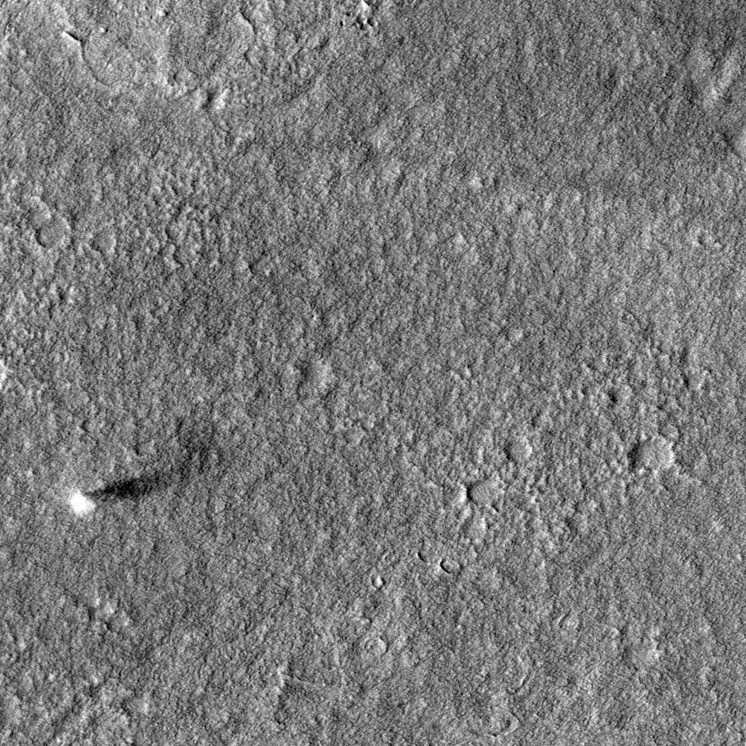dust_devil: (64, 460, 215, 524)
